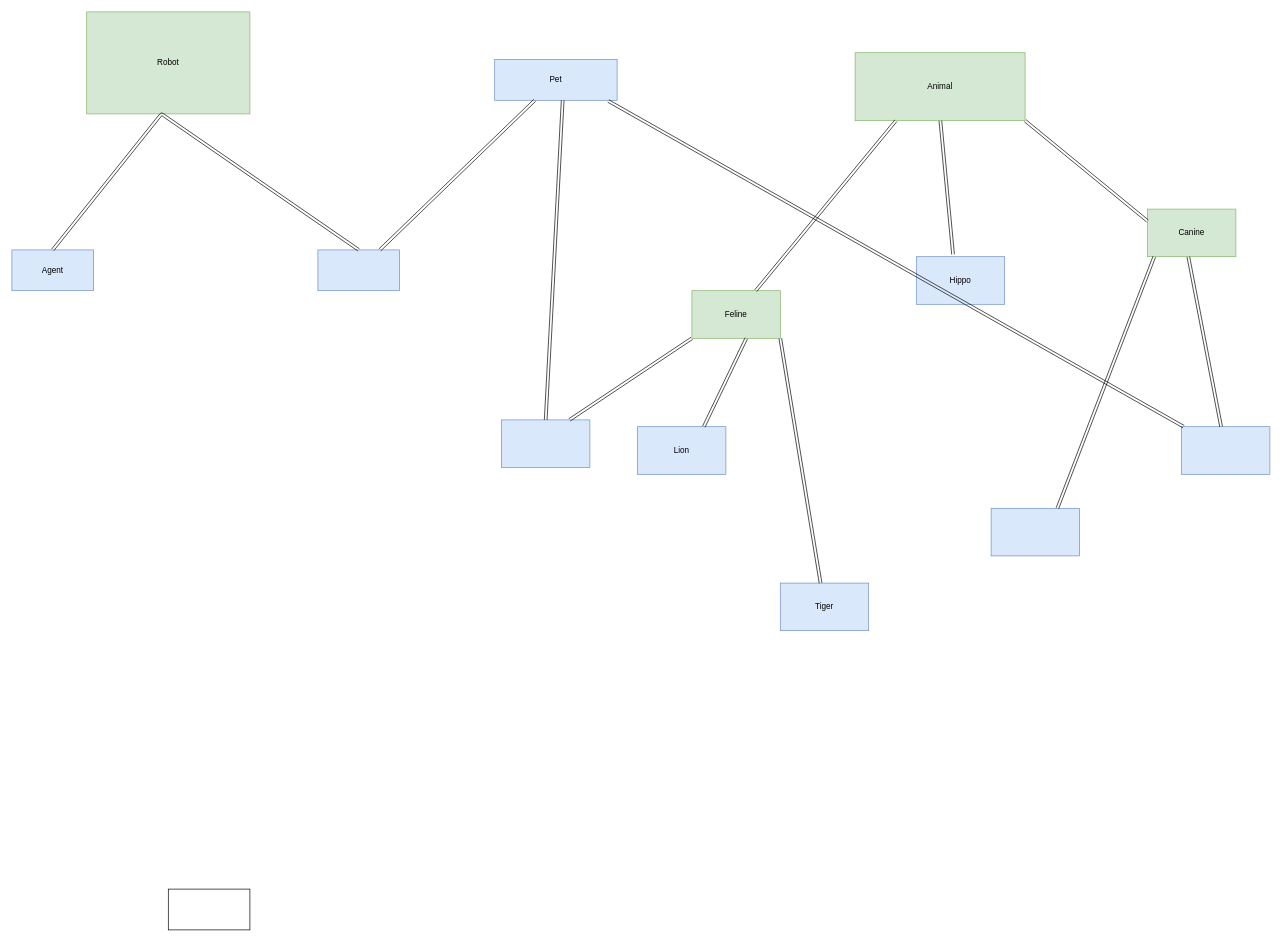
The diagram is 1282 pixels wide and 942 high, and some of its shapes have lost their labels. Here are the shapes that lost their labels. From the top down, the box of each, then its label:
(317, 249, 400, 291): RoboDog
(501, 419, 590, 468): Cat
(1181, 426, 1270, 474): Dog
(990, 508, 1080, 556): Wolf
